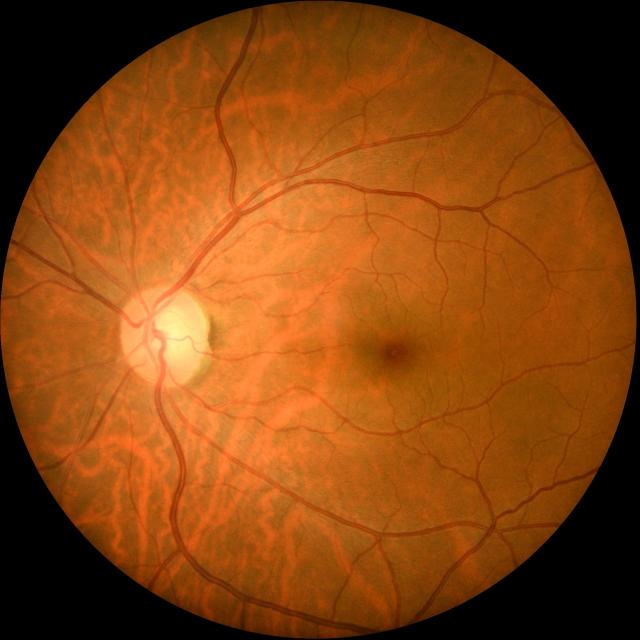OC: (144, 307, 191, 364)
OD: (119, 283, 206, 385)
